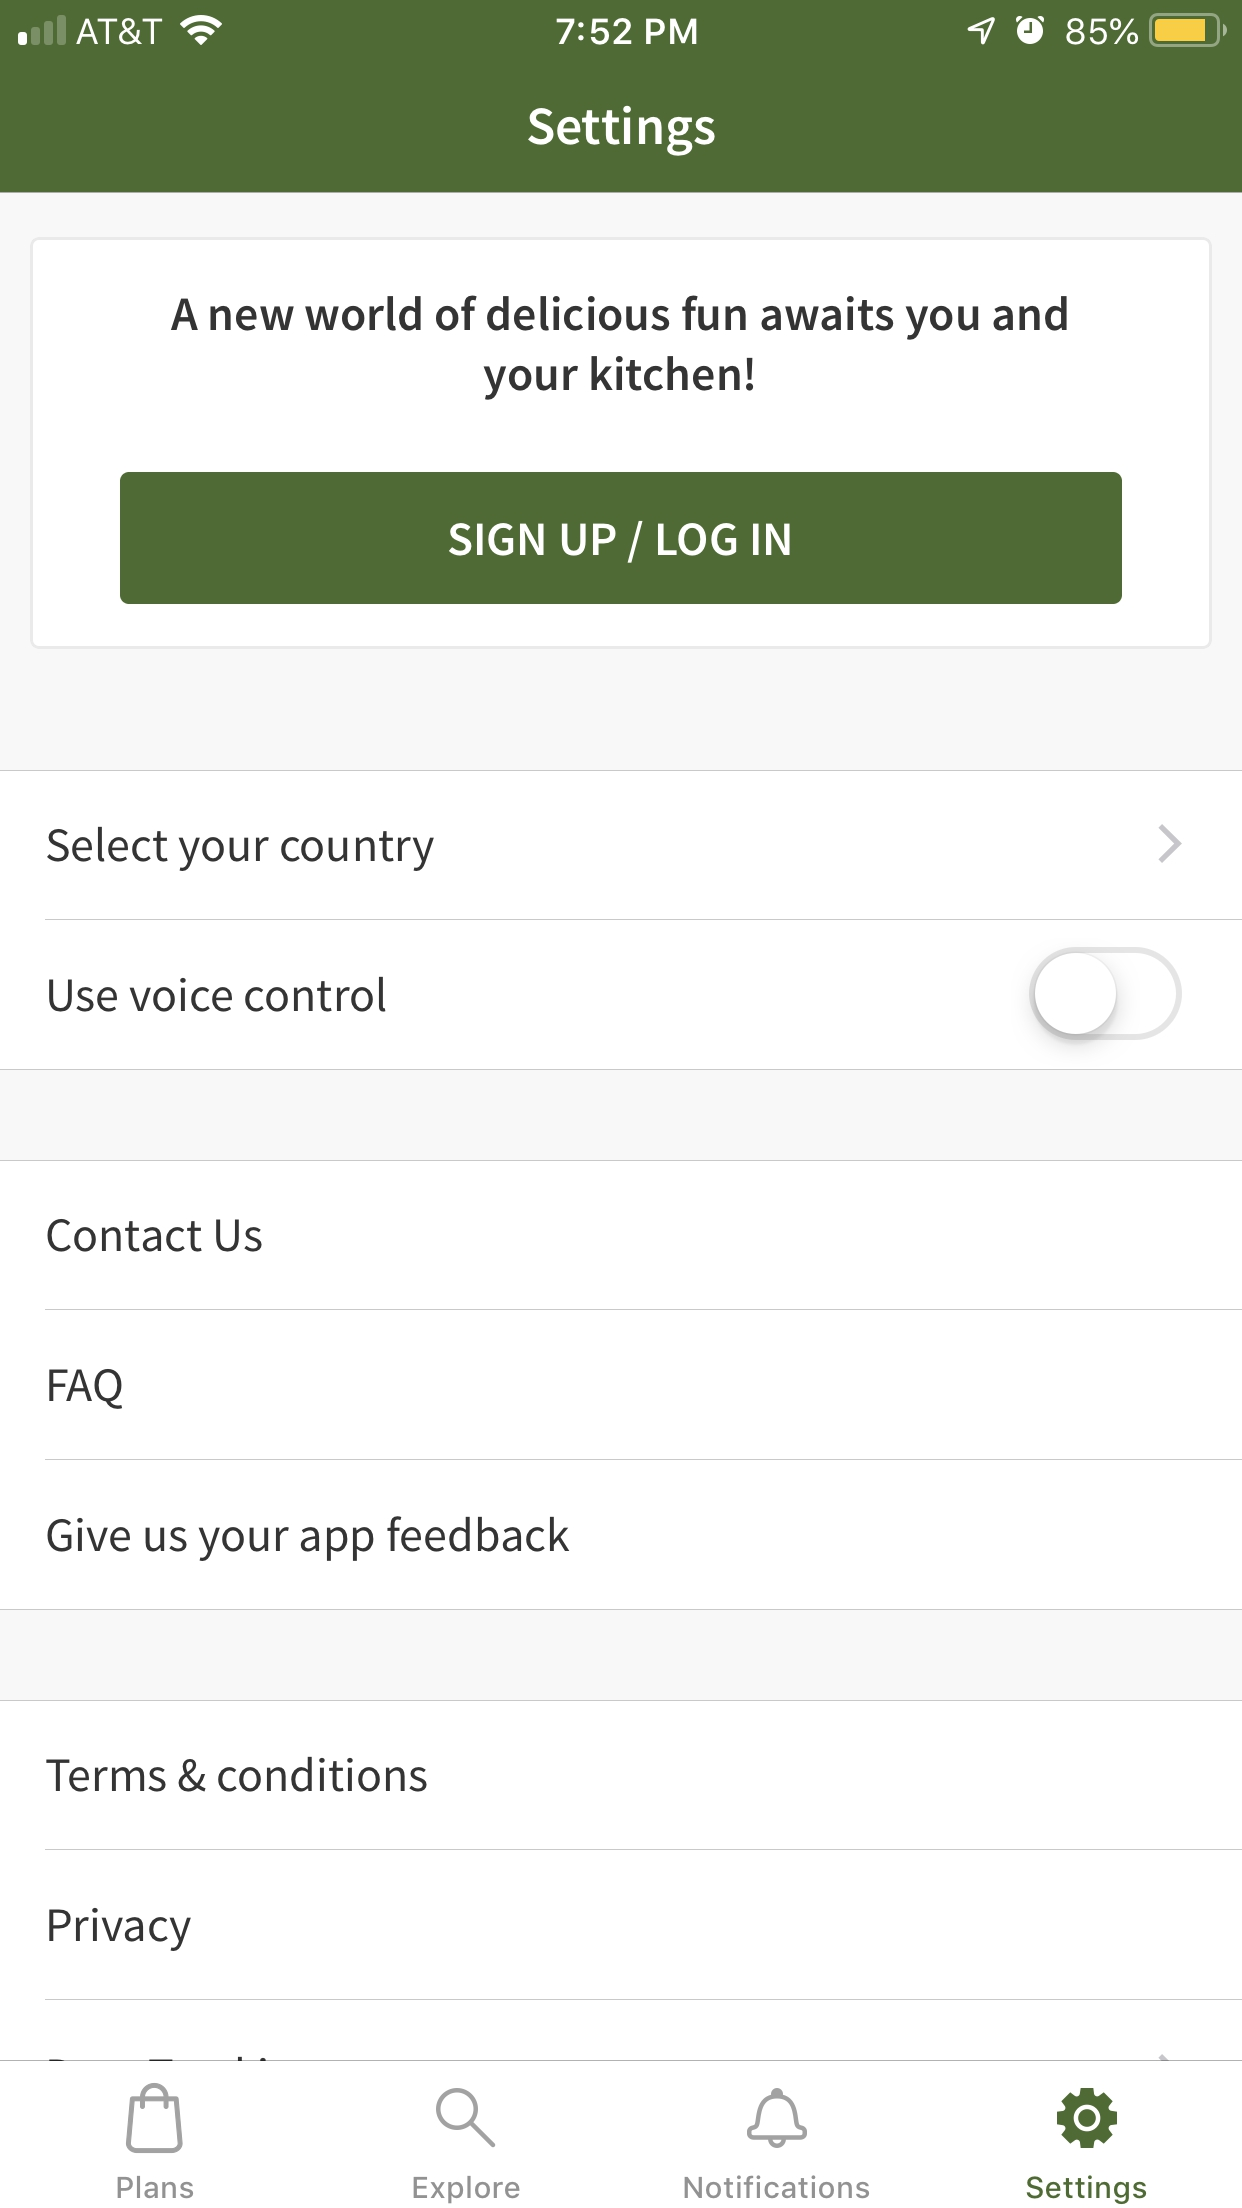Icon: (126, 2082, 185, 2153), (1057, 2087, 1118, 2149), (746, 2088, 808, 2149), (435, 2087, 496, 2147), (1159, 823, 1183, 864)
Switch: (1030, 946, 1183, 1040)
Text: (171, 296, 1068, 400), (47, 1515, 570, 1562), (49, 826, 437, 873), (47, 1756, 429, 1792), (49, 977, 387, 1015), (528, 105, 716, 158), (47, 1218, 262, 1253), (49, 1908, 193, 1952), (684, 2175, 870, 2199), (1027, 2175, 1146, 2205), (50, 1368, 124, 1410), (412, 2175, 522, 2203), (118, 2175, 196, 2199)
TextButton: (121, 472, 1124, 605)
UpperTaskBar: (2, 2, 1242, 49)
